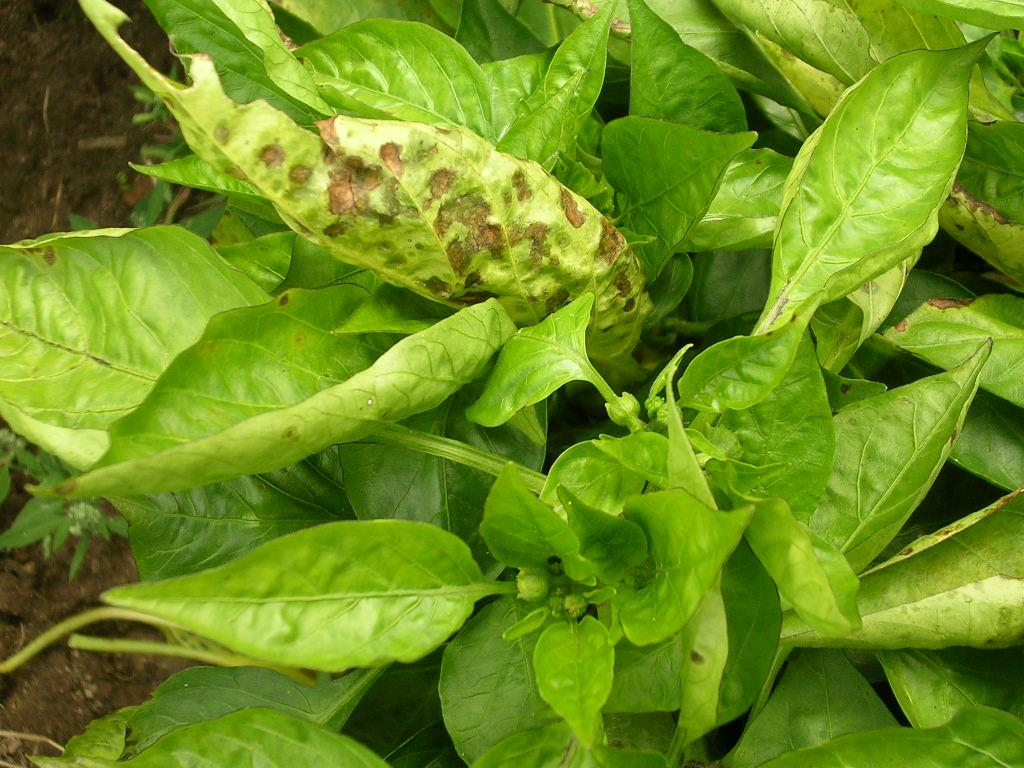Bell_pepper leaf: (88, 4, 654, 381)
